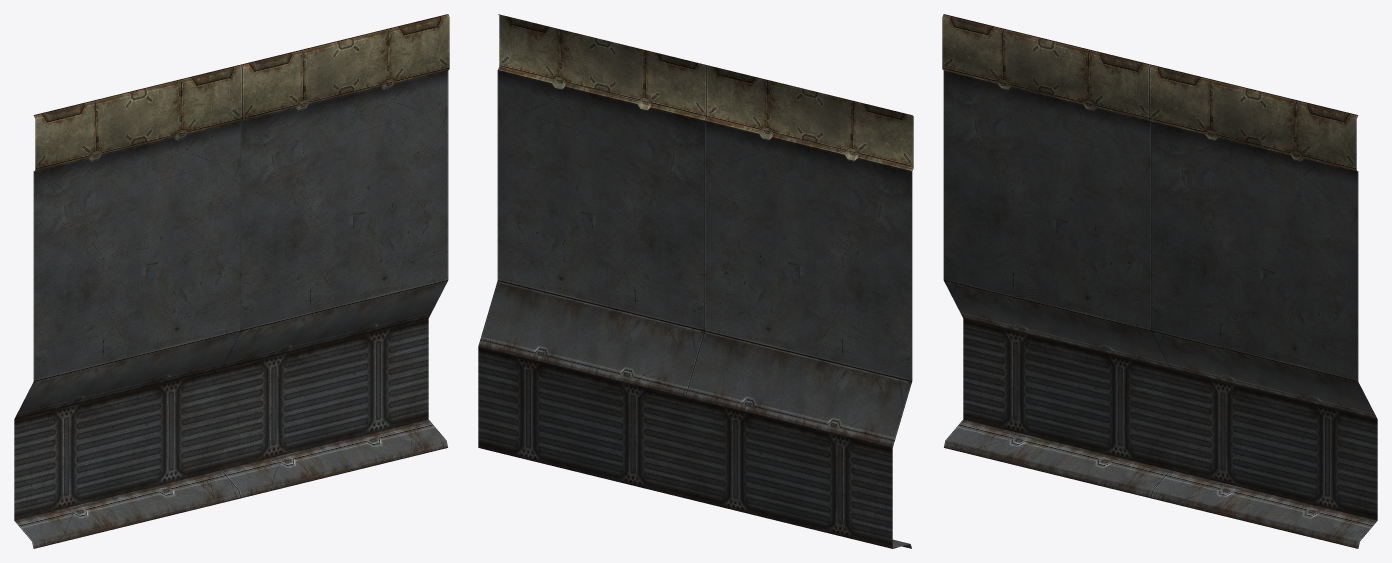
Rendered from datasite_flat03.dae.
3 views of the same model, side by side, from view 1: azimuth 30°, elevation 25°; view 2: azimuth 150°, elevation 25°; view 3: azimuth 330°, elevation 25° (orthographic).
Parts seen in each view (by area): view 1: polySurface39; view 2: polySurface39; view 3: polySurface39.
Part boxes in pixels (x1=…): polySurface39: x1=14, y1=14, x2=449, y2=548; polySurface39: x1=478, y1=14, x2=913, y2=548; polySurface39: x1=942, y1=14, x2=1377, y2=548.
Bounding box in the file's own units: 4 × 4 × 0.351.
